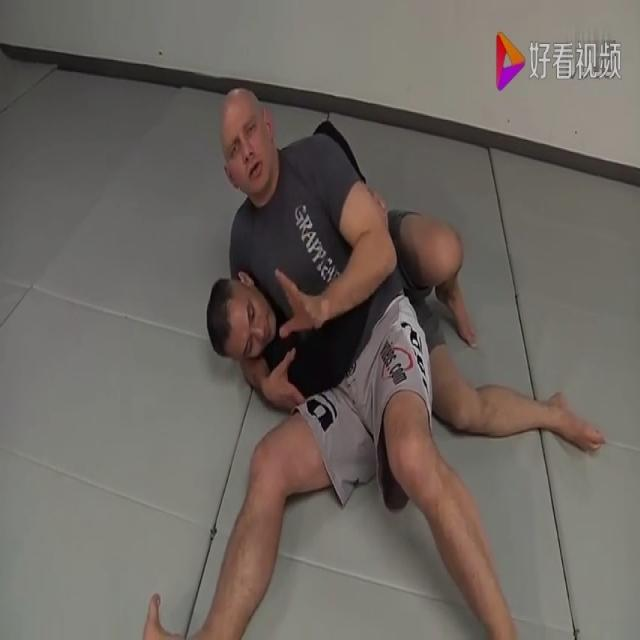fight: (137, 76, 598, 640)
